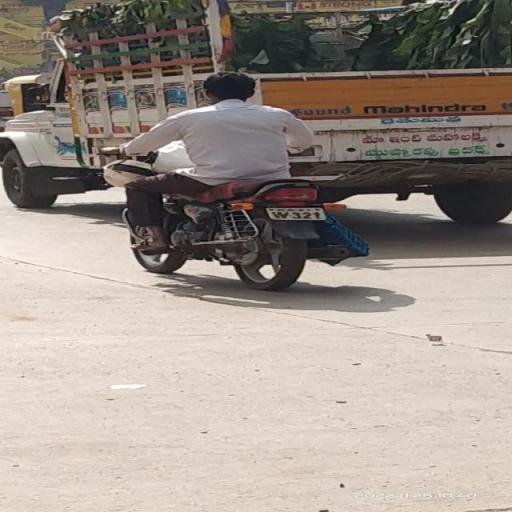bike: (100, 67, 351, 289)
numberplate: (266, 205, 328, 221)
withouthelmet: (206, 72, 254, 102)
